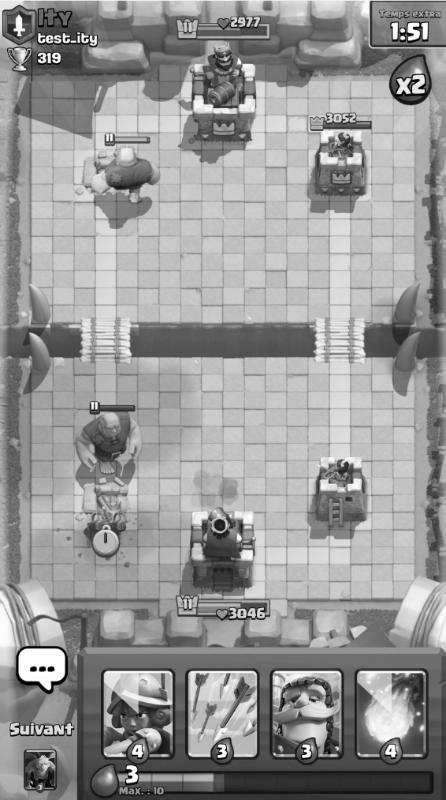archere: (84, 509, 106, 541), (108, 507, 128, 539)
geant: (90, 133, 160, 204), (75, 402, 142, 475)
